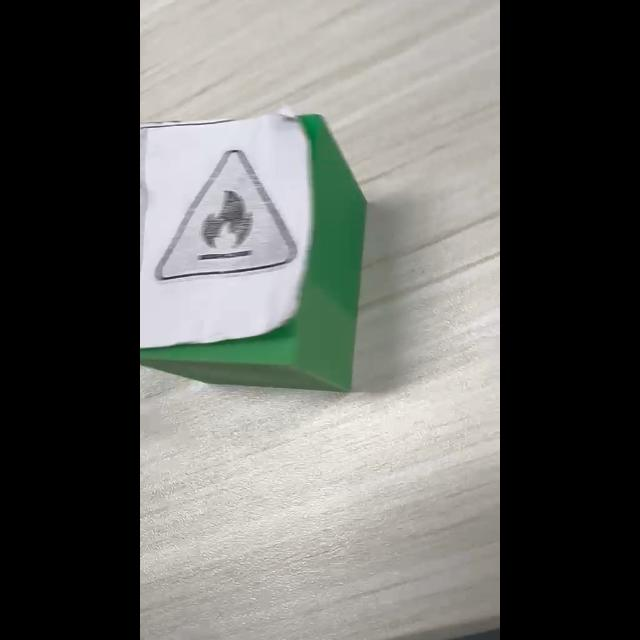Fire: (159, 147, 299, 281)
